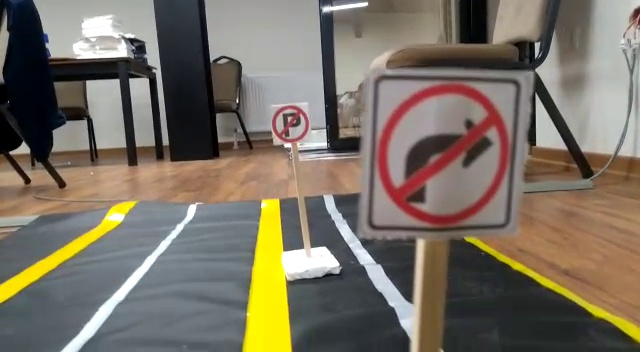park_yapilmaz: (271, 104, 309, 146)
saga_donulmez: (364, 76, 524, 237)
